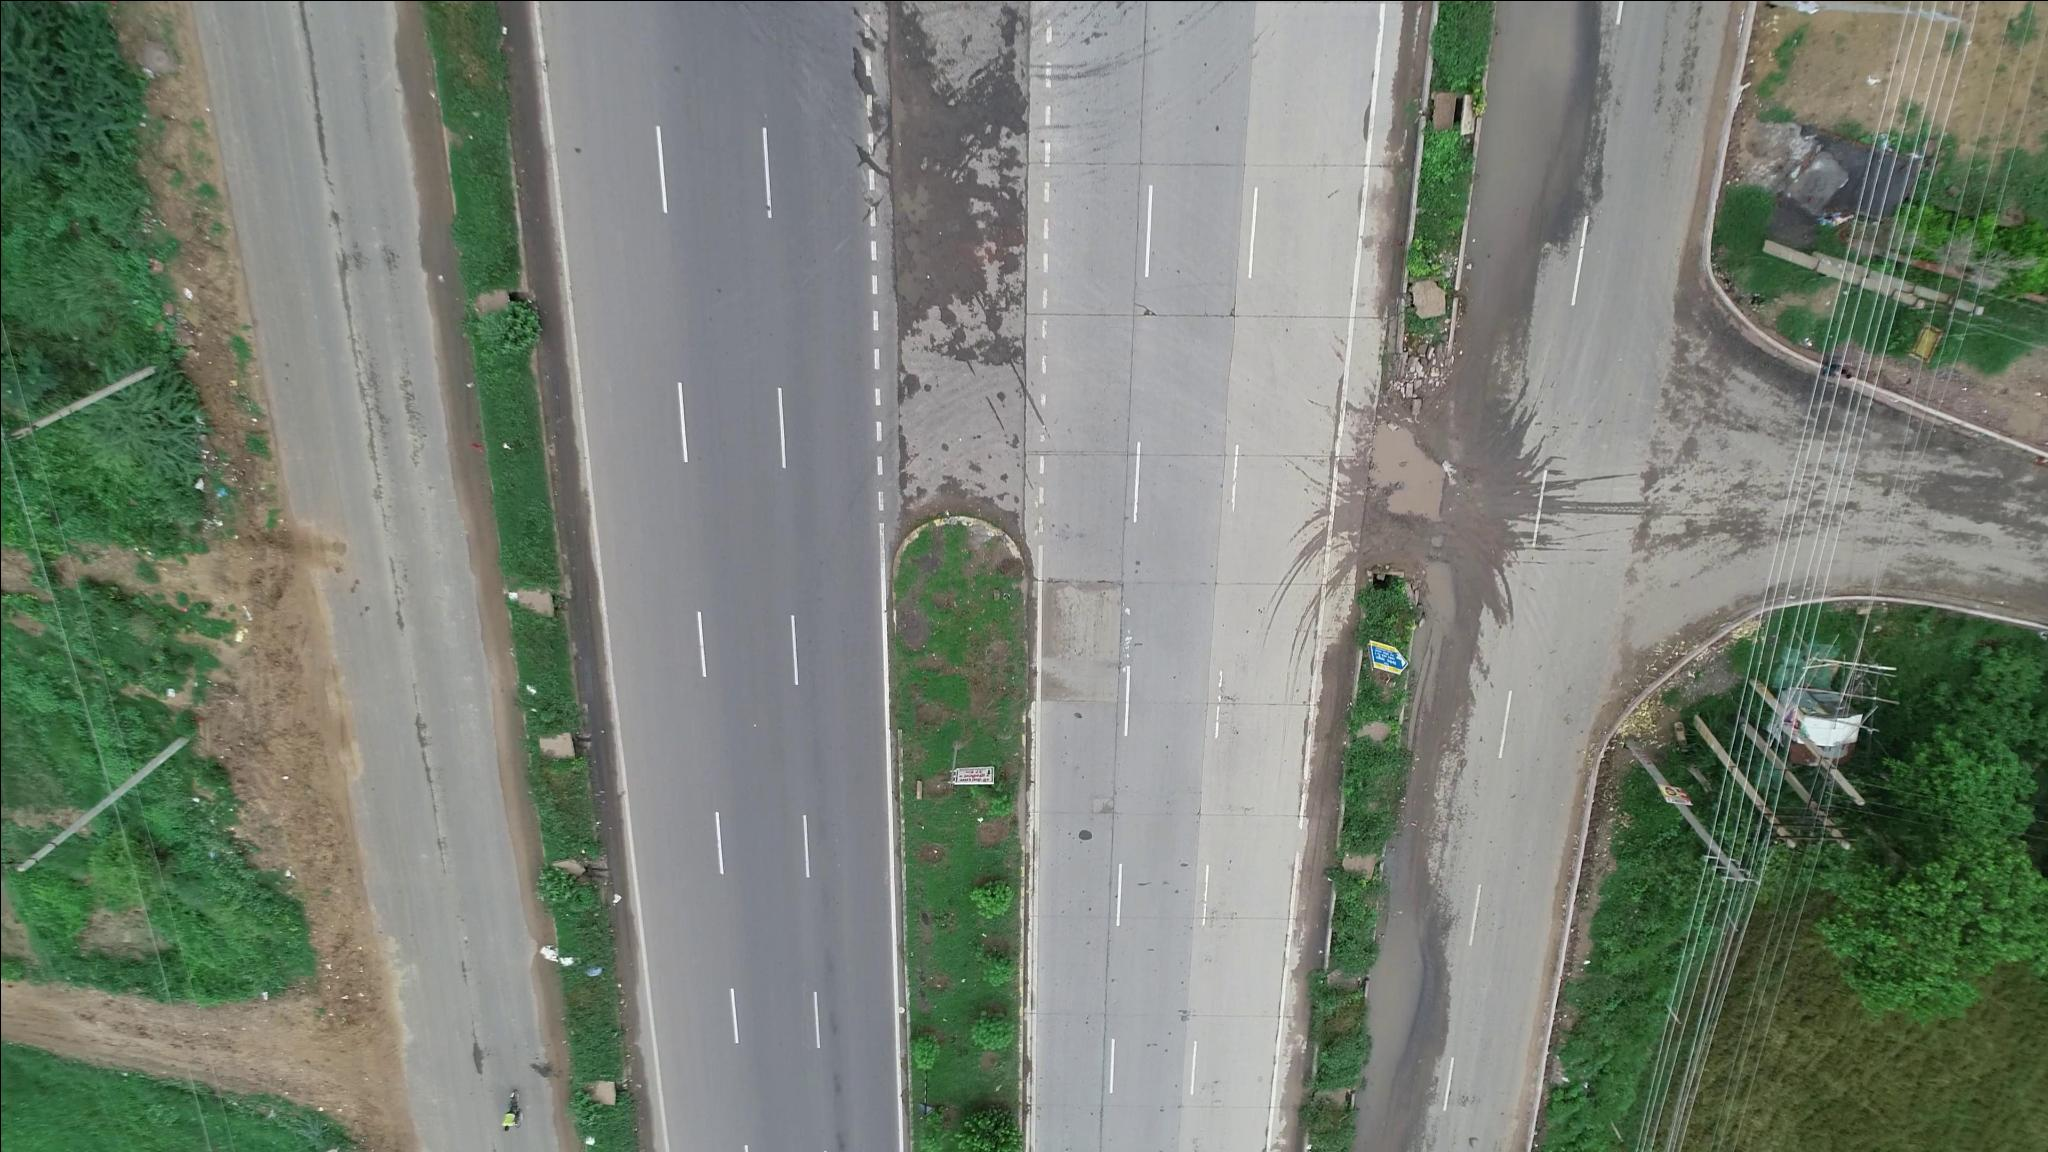Cracks: (298, 8, 383, 454), (383, 567, 453, 869)
Waterlogging: (1484, 6, 1598, 269)
